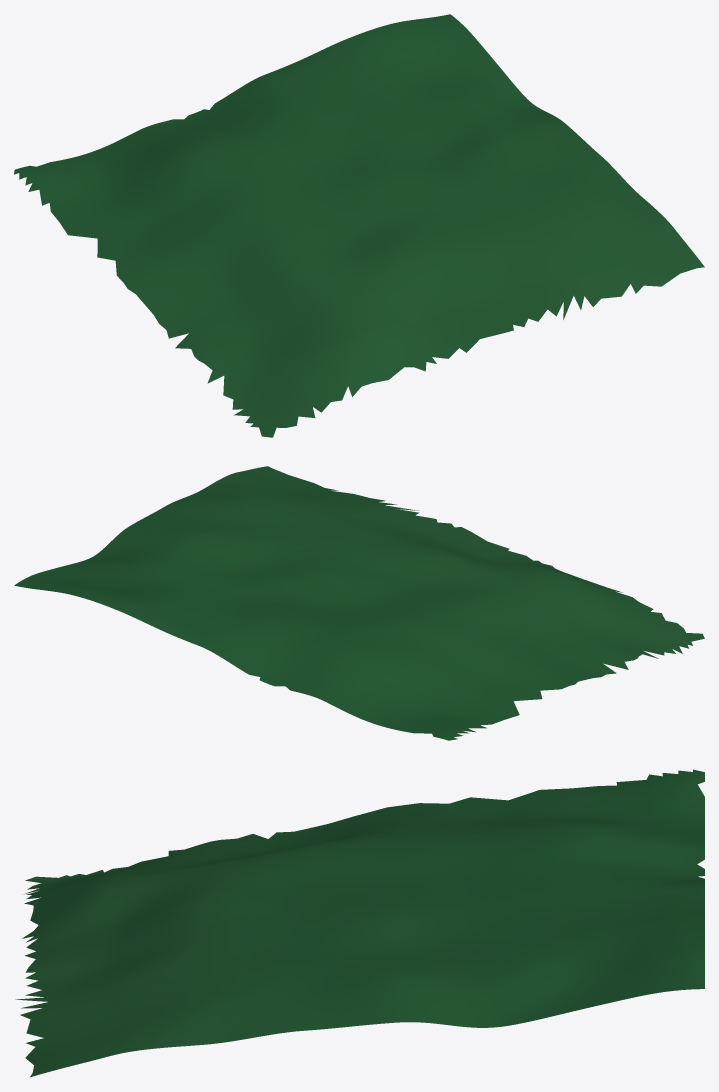
The model's file is payo_land_x3_y4.glb.
3 renders of one model, top to bottom at view 1: azimuth 30°, elevation 25°; view 2: azimuth 150°, elevation 25°; view 3: azimuth 270°, elevation 25°, orthographic. The views are drawn at different scales.
Parts seen in each view (by area): view 1: payo_land_x3_y4; view 2: payo_land_x3_y4; view 3: payo_land_x3_y4.
Part boxes in pixels (<box>): payo_land_x3_y4: <box>14,14,704,437</box>; payo_land_x3_y4: <box>14,466,704,740</box>; payo_land_x3_y4: <box>15,769,704,1077</box>.
Bounding box in the file's own units: 261 × 75.49 × 264.
